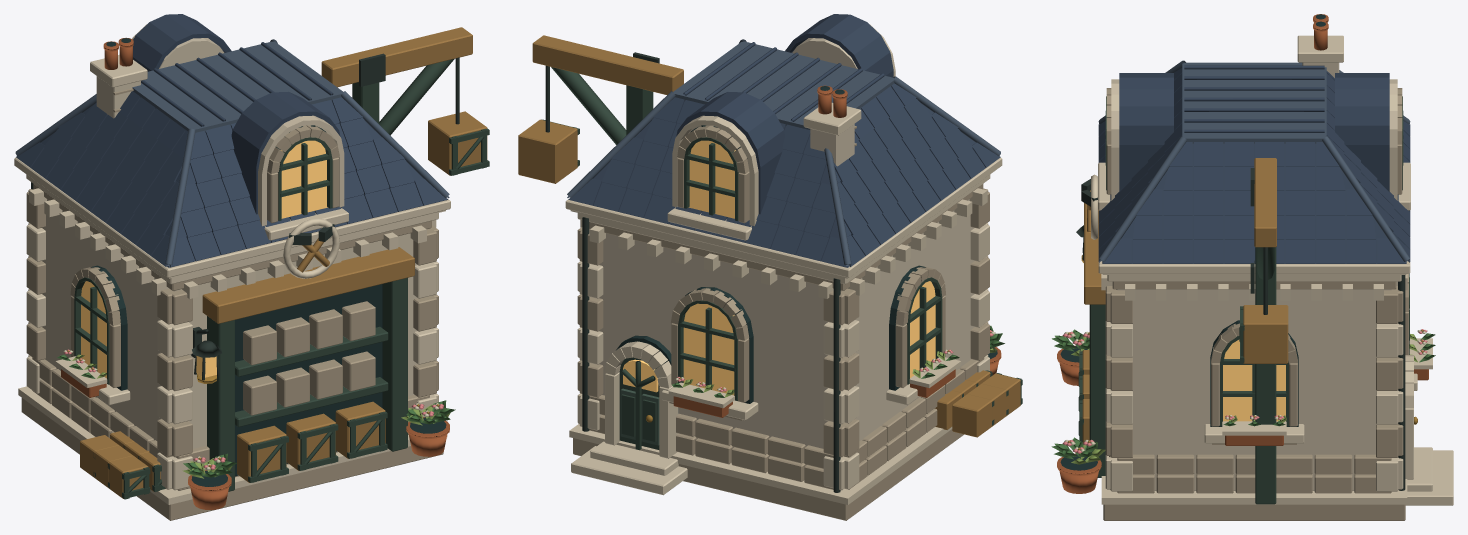
3 renders of one model, left to right at view 1: azimuth 30°, elevation 25°; view 2: azimuth 150°, elevation 25°; view 3: azimuth 270°, elevation 25°, orthographic.
Parts seen in each view (by area): view 1: classic_builders_guild_geometry, classic_crane_load_geometry; view 2: classic_builders_guild_geometry, classic_crane_load_geometry; view 3: classic_builders_guild_geometry, classic_crane_load_geometry.
Boxes of the visible parts, x1,y1,x2,y2 form: classic_builders_guild_geometry: [14, 14, 472, 520]; classic_crane_load_geometry: [428, 57, 489, 175]; classic_builders_guild_geometry: [532, 14, 1022, 520]; classic_crane_load_geometry: [518, 65, 579, 183]; classic_builders_guild_geometry: [1051, 14, 1453, 520]; classic_crane_load_geometry: [1239, 247, 1288, 363].
Bounding box in the file's own units: 1.04 × 0.9099 × 0.8444.
